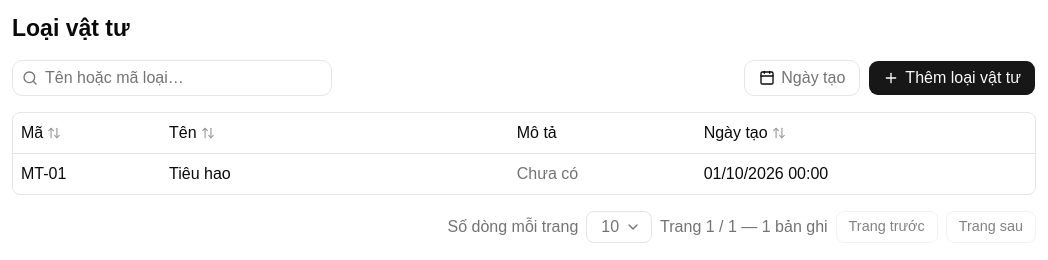
Test case: MaterialTypesPage › gõ tên → gửi name; trống → câu báo theo tên (nhiều từ: không có nút tìm theo mã)
The image size is (1048, 260).
Check: the heading "Loại vật tư" is shown, box [12,15,130,41]
Check: the text "Tiêu hao" is shown, box [169,164,231,182]
Type "hoá chất" into the search field with placeholder "Tên hoặc mã loại…" at (172,78), box [12,60,332,96]
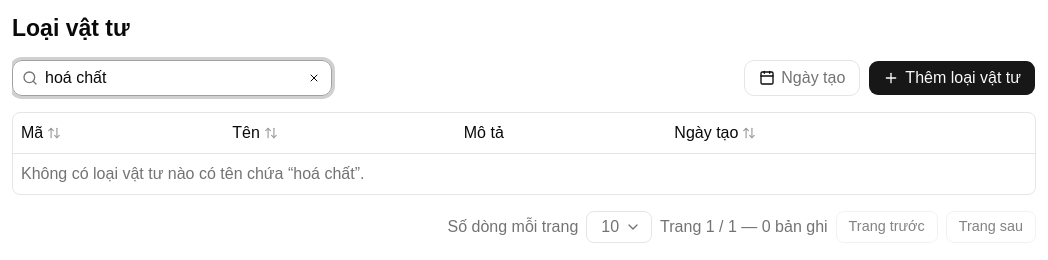
Check: the text "Không có loại vật tư nào có tên chứa “hoá chất”." is shown, box [13,153,1035,194]
